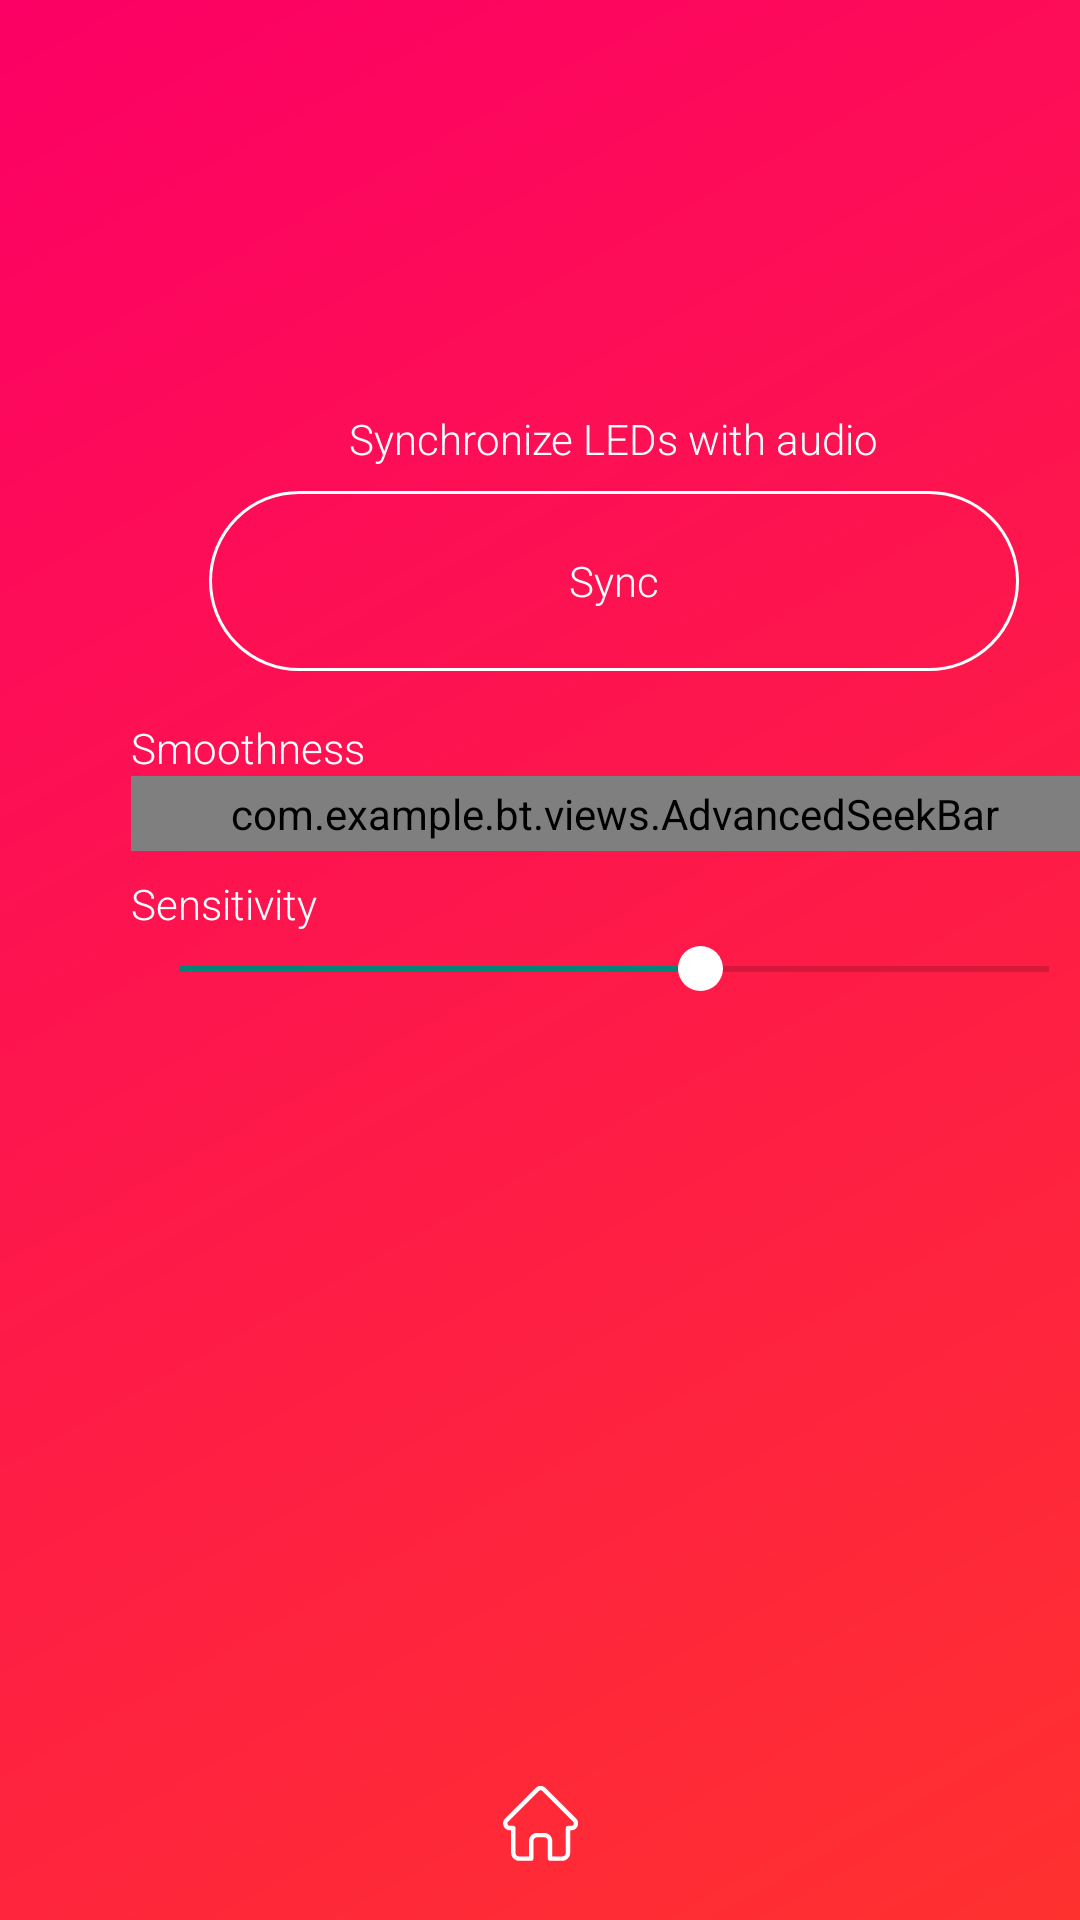

Icons on this 1080px×1920px Android screen, each with the point to tap as (x=x, y=y):
home: (x=540, y=1823)
